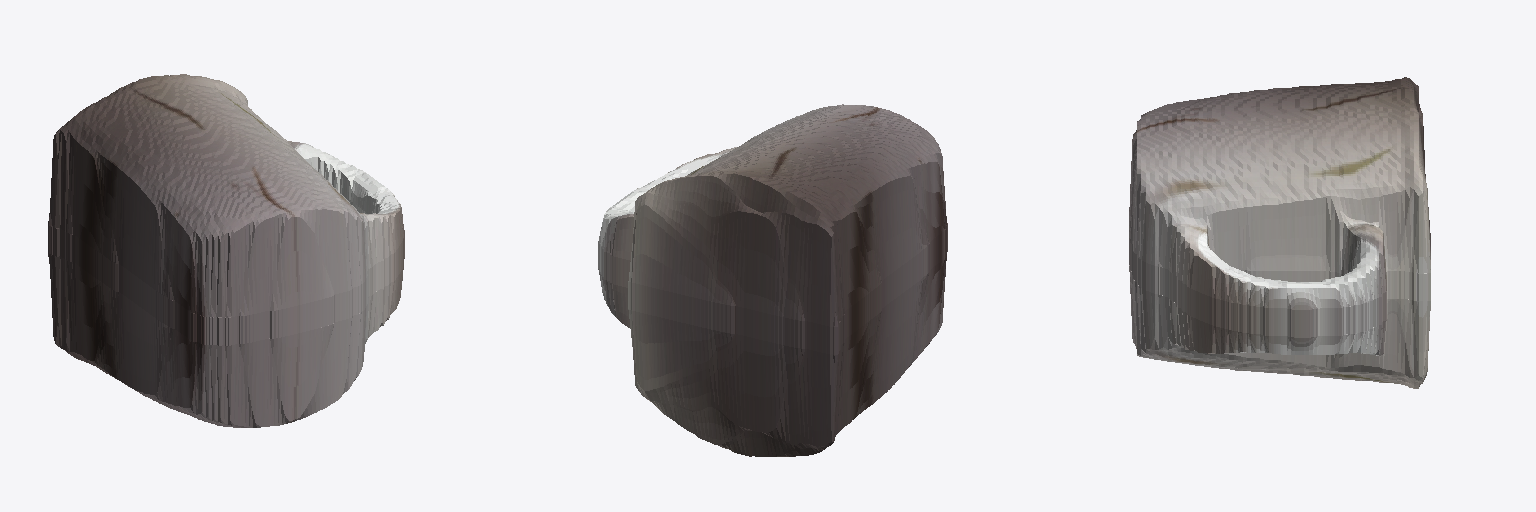
3 views of the same model, side by side, from view 1: azimuth 30°, elevation 25°; view 2: azimuth 150°, elevation 25°; view 3: azimuth 270°, elevation 25° (orthographic).
Visible parts, largest first — view 1: Grid; view 2: Grid; view 3: Grid.
Boxes of the visible parts, x1=… form: Grid: x1=48, y1=74, x2=404, y2=427; Grid: x1=598, y1=104, x2=947, y2=456; Grid: x1=1129, y1=77, x2=1430, y2=388.
Bounding box in the file's own units: 1.46 × 1.4 × 1.37.
Materials: 2 (1 with a texture image).